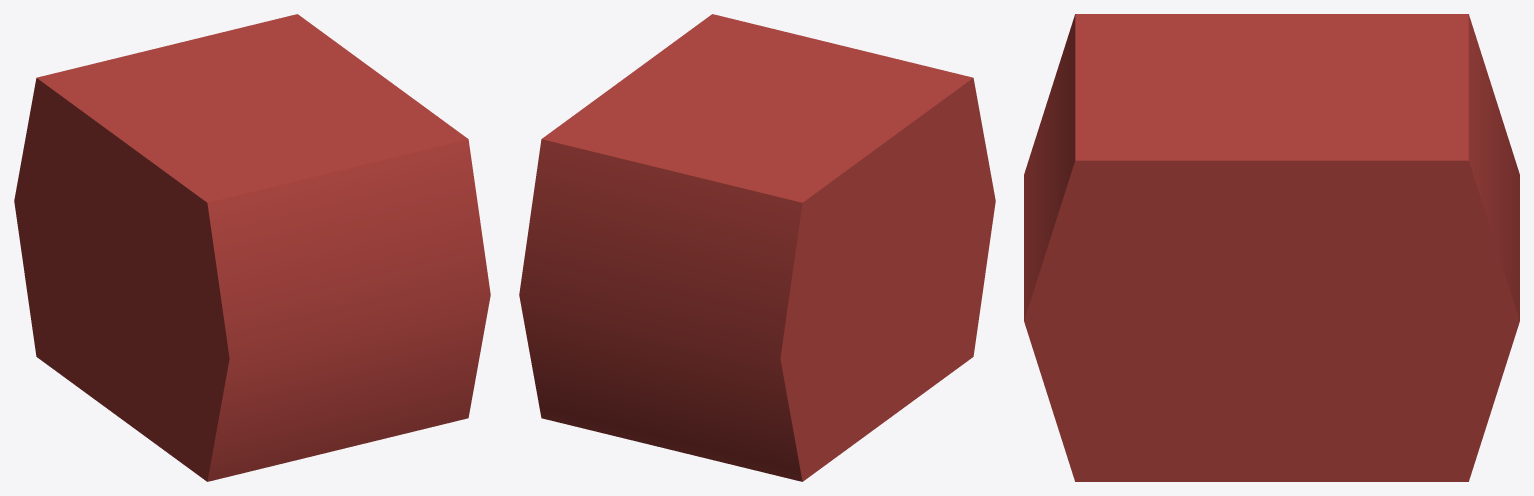
Rendered from airbox_lod2.glb.
3 views of the same model, side by side, from view 1: azimuth 30°, elevation 25°; view 2: azimuth 150°, elevation 25°; view 3: azimuth 270°, elevation 25° (orthographic). The views are drawn at different scales.
Parts seen in each view (by area): view 1: airbox_lod2; view 2: airbox_lod2; view 3: airbox_lod2.
Boxes of the visible parts, box(x1,y1,x2,y2) form: airbox_lod2: box(14, 14, 490, 481); airbox_lod2: box(519, 14, 995, 481); airbox_lod2: box(1024, 14, 1519, 481).
Size of the model in its own units: 0.14 by 0.143 by 0.2.
